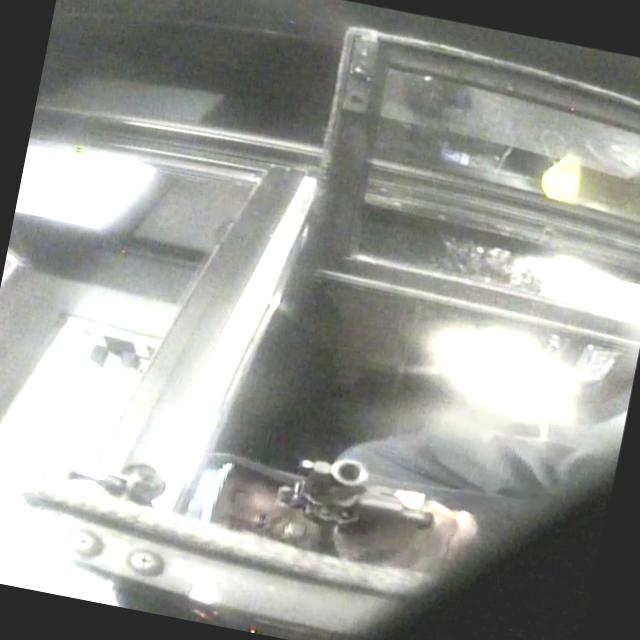handgun: (270, 448, 444, 542)
